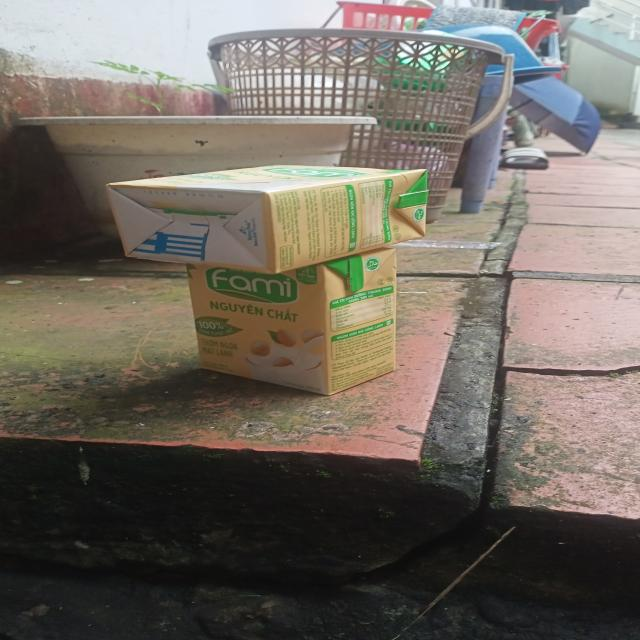Fami: (107, 164, 427, 277), (191, 250, 398, 397)
